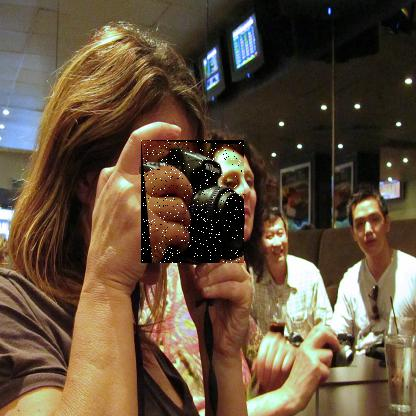Camera: (142, 141, 246, 265)
